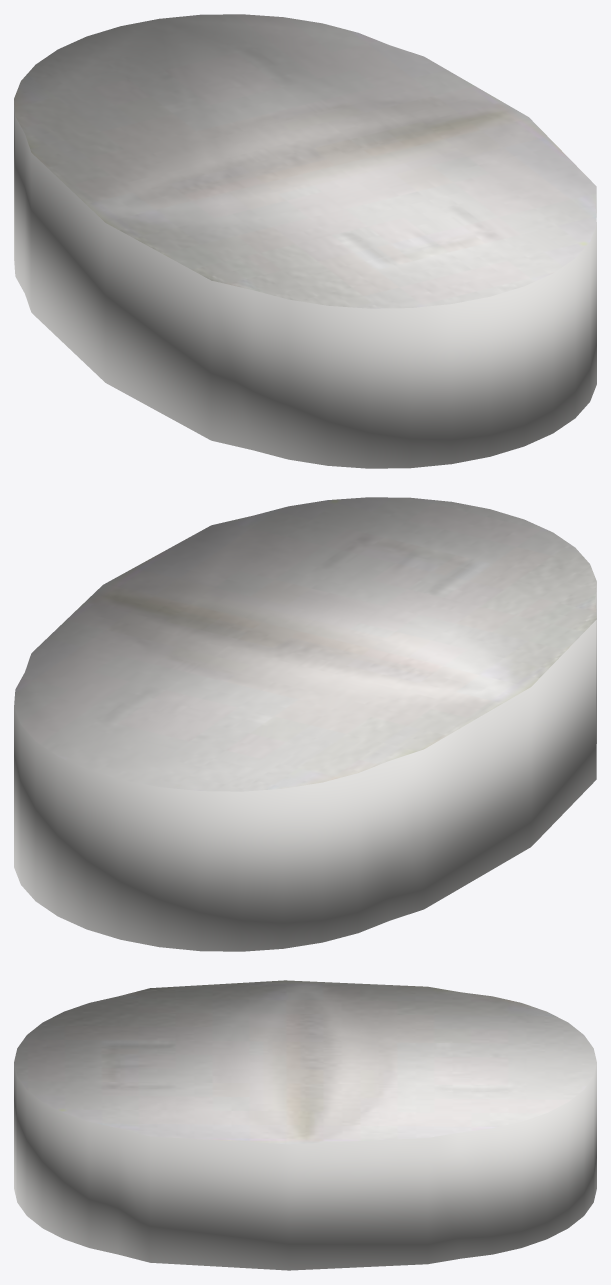
3 renders of one model, top to bottom at view 1: azimuth 30°, elevation 25°; view 2: azimuth 150°, elevation 25°; view 3: azimuth 270°, elevation 25°, orthographic. The views are drawn at different scales.
Visible parts, largest first — view 1: 圓柱體; view 2: 圓柱體; view 3: 圓柱體.
Part boxes in pixels (<box>): 圓柱體: <box>14,14,596,468</box>; 圓柱體: <box>14,497,596,951</box>; 圓柱體: <box>14,980,596,1270</box>.
Size of the model in its own units: 1.95 by 0.7007 by 2.93.
Materials: 1 (1 with a texture image).
